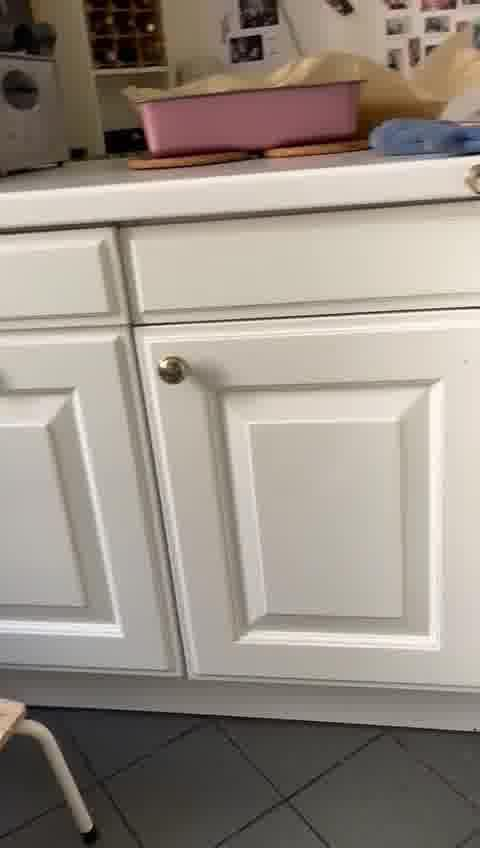cabinet_door: (145, 332, 468, 682)
handle: (151, 351, 200, 388)
